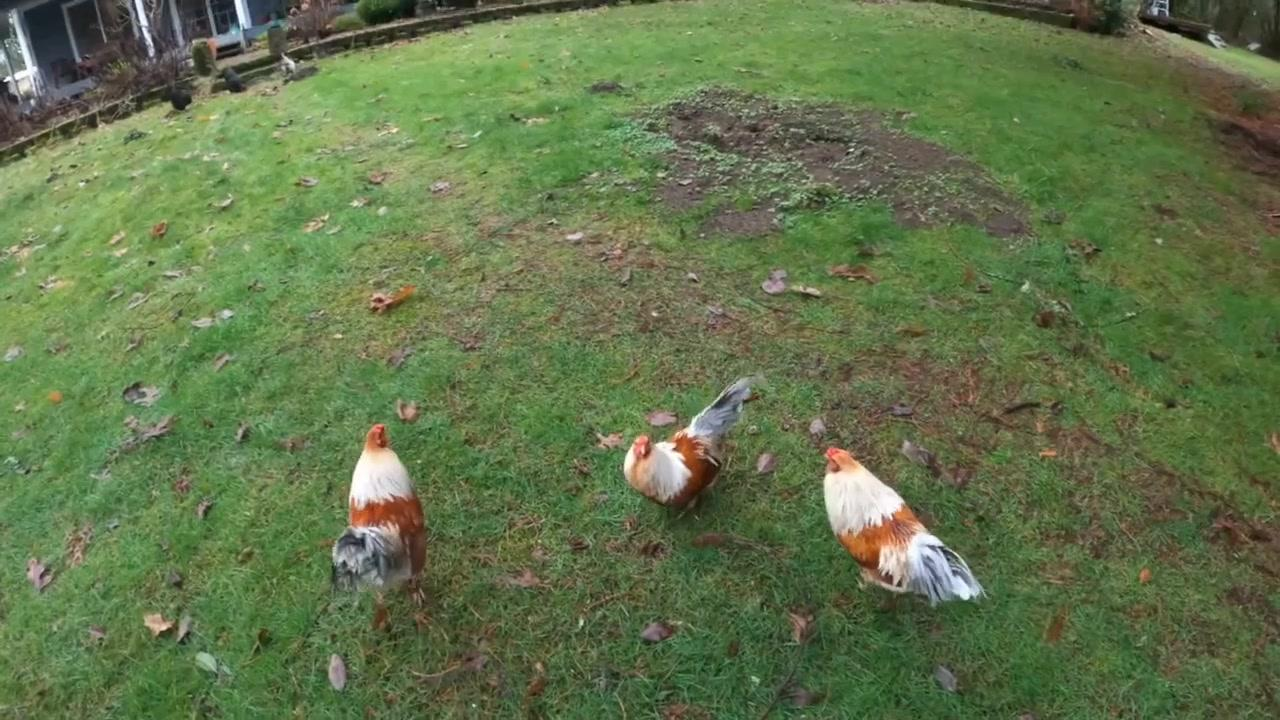Normal: (804, 436, 988, 608), (310, 414, 464, 602), (586, 376, 758, 518)
